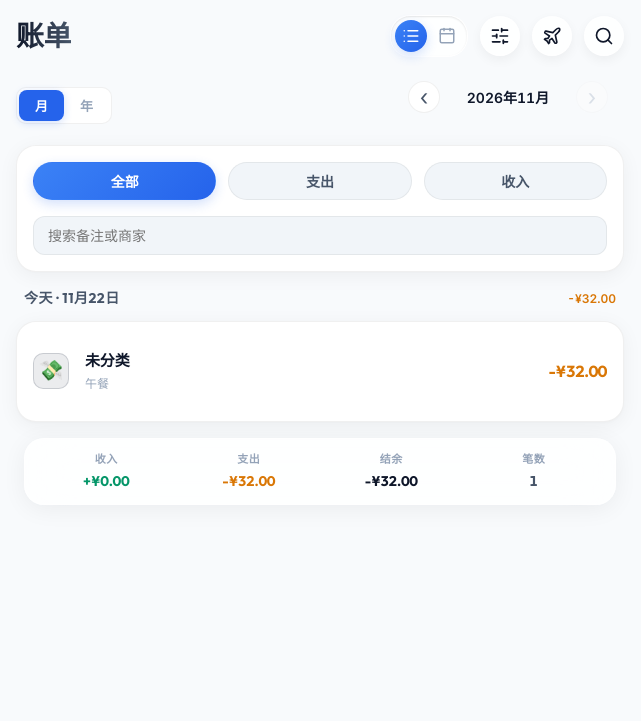
it: TransactionsPage 长按删除 › 长按后立即从列表隐藏，但撤销窗口内不调删除接口
Press the mouse on the text "午餐" at (51, 371), box [33,351,607,390]
Wait 700 ms
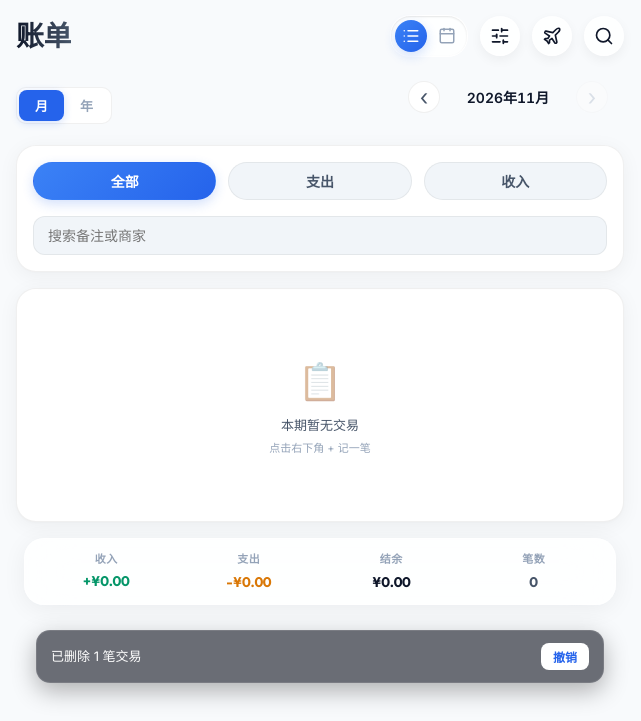
Check: the text "午餐" is gone
Check: the text "已删除 1 笔交易" is shown, box [51,648,142,664]
